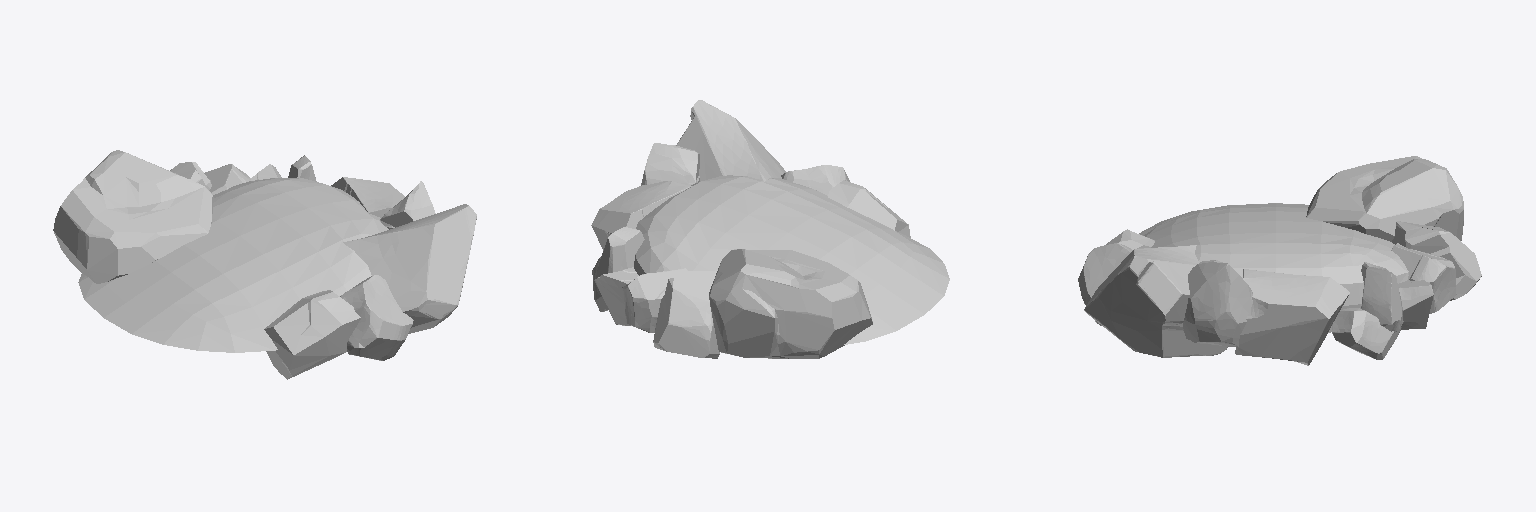
The model's file is sm_1x_hillCliff_1.OBJ.
3 renders of one model, left to right at view 1: azimuth 30°, elevation 25°; view 2: azimuth 150°, elevation 25°; view 3: azimuth 270°, elevation 25°, orthographic.
Parts seen in each view (by area): view 1: ZBrushPolyMesh3D3; view 2: ZBrushPolyMesh3D3; view 3: ZBrushPolyMesh3D3.
Boxes of the visible parts, x1=… form: ZBrushPolyMesh3D3: x1=53, y1=150, x2=476, y2=379; ZBrushPolyMesh3D3: x1=591, y1=100, x2=949, y2=358; ZBrushPolyMesh3D3: x1=1078, y1=156, x2=1481, y2=365.
Bounding box in the file's own units: 4.97 × 2.12 × 5.62.